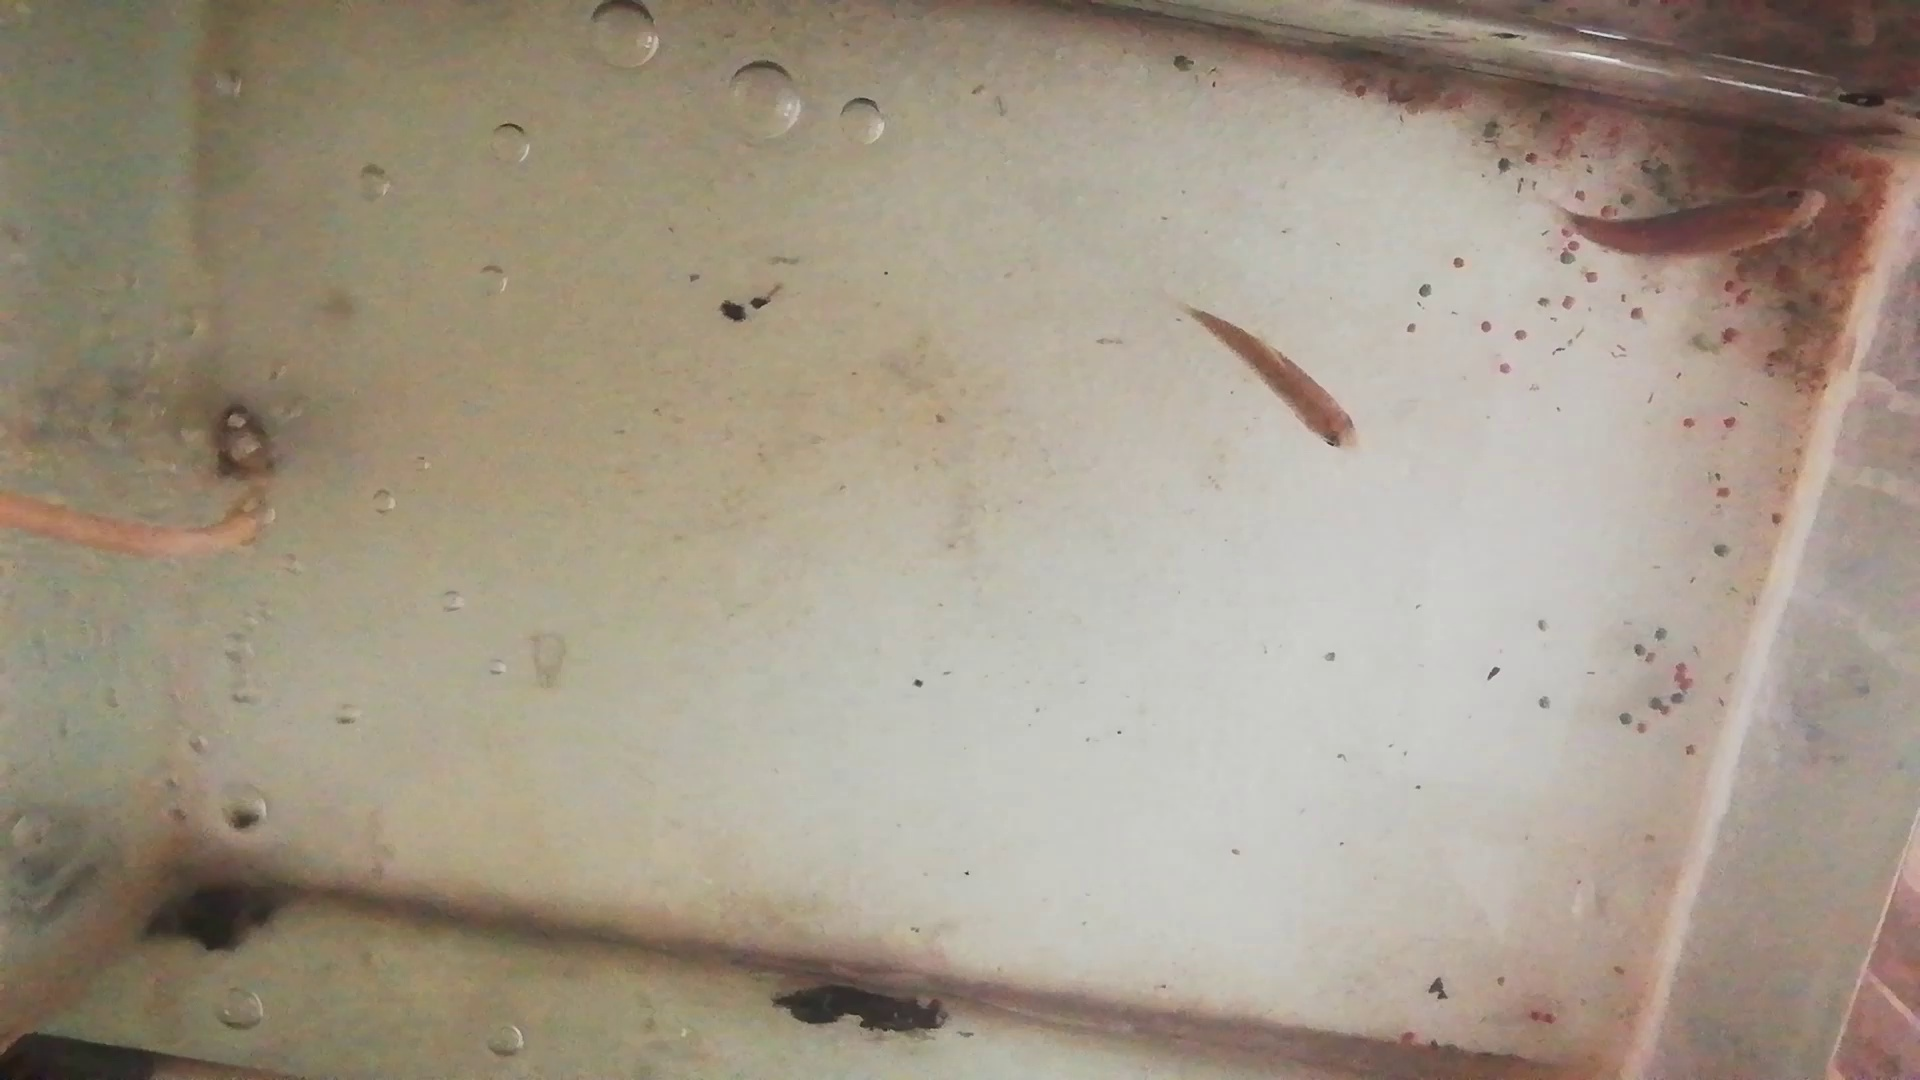fish: (1189, 306, 1362, 454), (1564, 187, 1830, 258)
